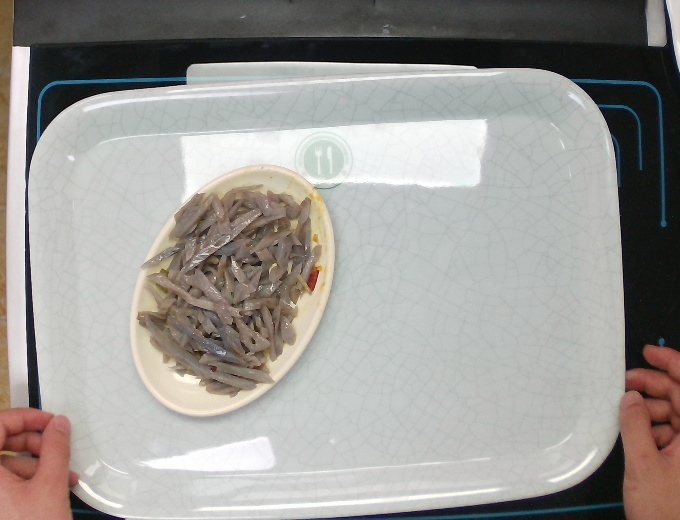JYsf-Tuo_Yuan_Wan: (132, 154, 336, 422)
